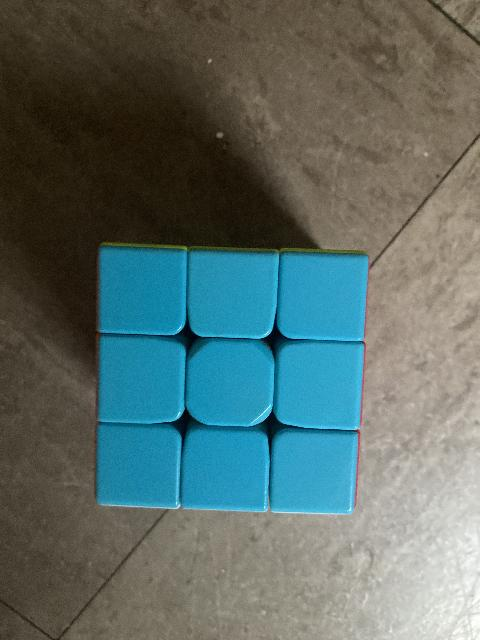Blue: (100, 248, 184, 334), (282, 256, 364, 338), (282, 340, 358, 428), (192, 253, 272, 335), (98, 342, 180, 420), (274, 430, 352, 510), (98, 430, 177, 506), (193, 344, 269, 422), (190, 428, 266, 506)
